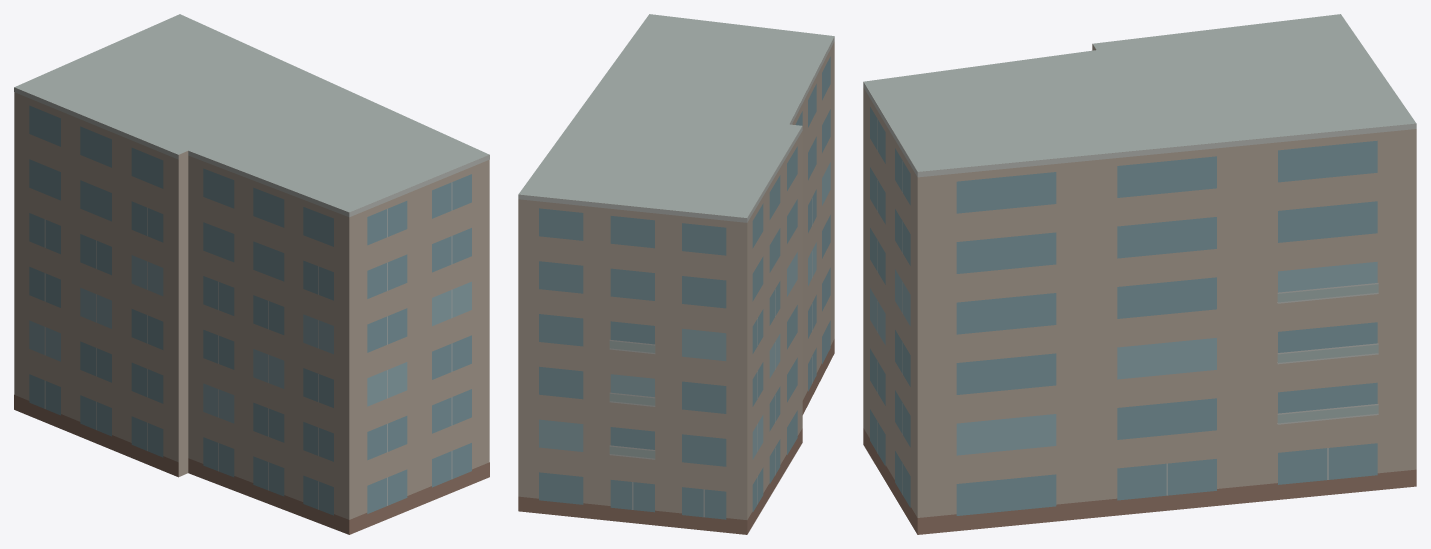
The model's file is survey-upis-32651108.glb.
The picture shows the model from 3 angles, left to right: view 1: azimuth 30°, elevation 25°; view 2: azimuth 150°, elevation 25°; view 3: azimuth 270°, elevation 25°; orthographic projection. The views are drawn at different scales.
Visible parts, largest first — view 1: survey-upis-32651108.tmp; view 2: survey-upis-32651108.tmp; view 3: survey-upis-32651108.tmp.
Boxes of the visible parts, x1,y1,x2,y2 form: survey-upis-32651108.tmp: (14, 14, 489, 534); survey-upis-32651108.tmp: (518, 14, 834, 534); survey-upis-32651108.tmp: (863, 14, 1416, 534).
Size of the model in its own units: 15.22 by 16.3 by 22.53.
